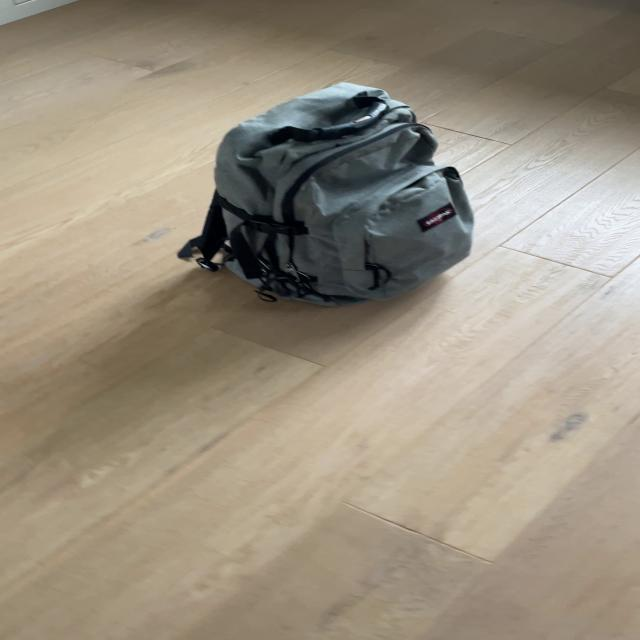backpack: (182, 75, 487, 312)
